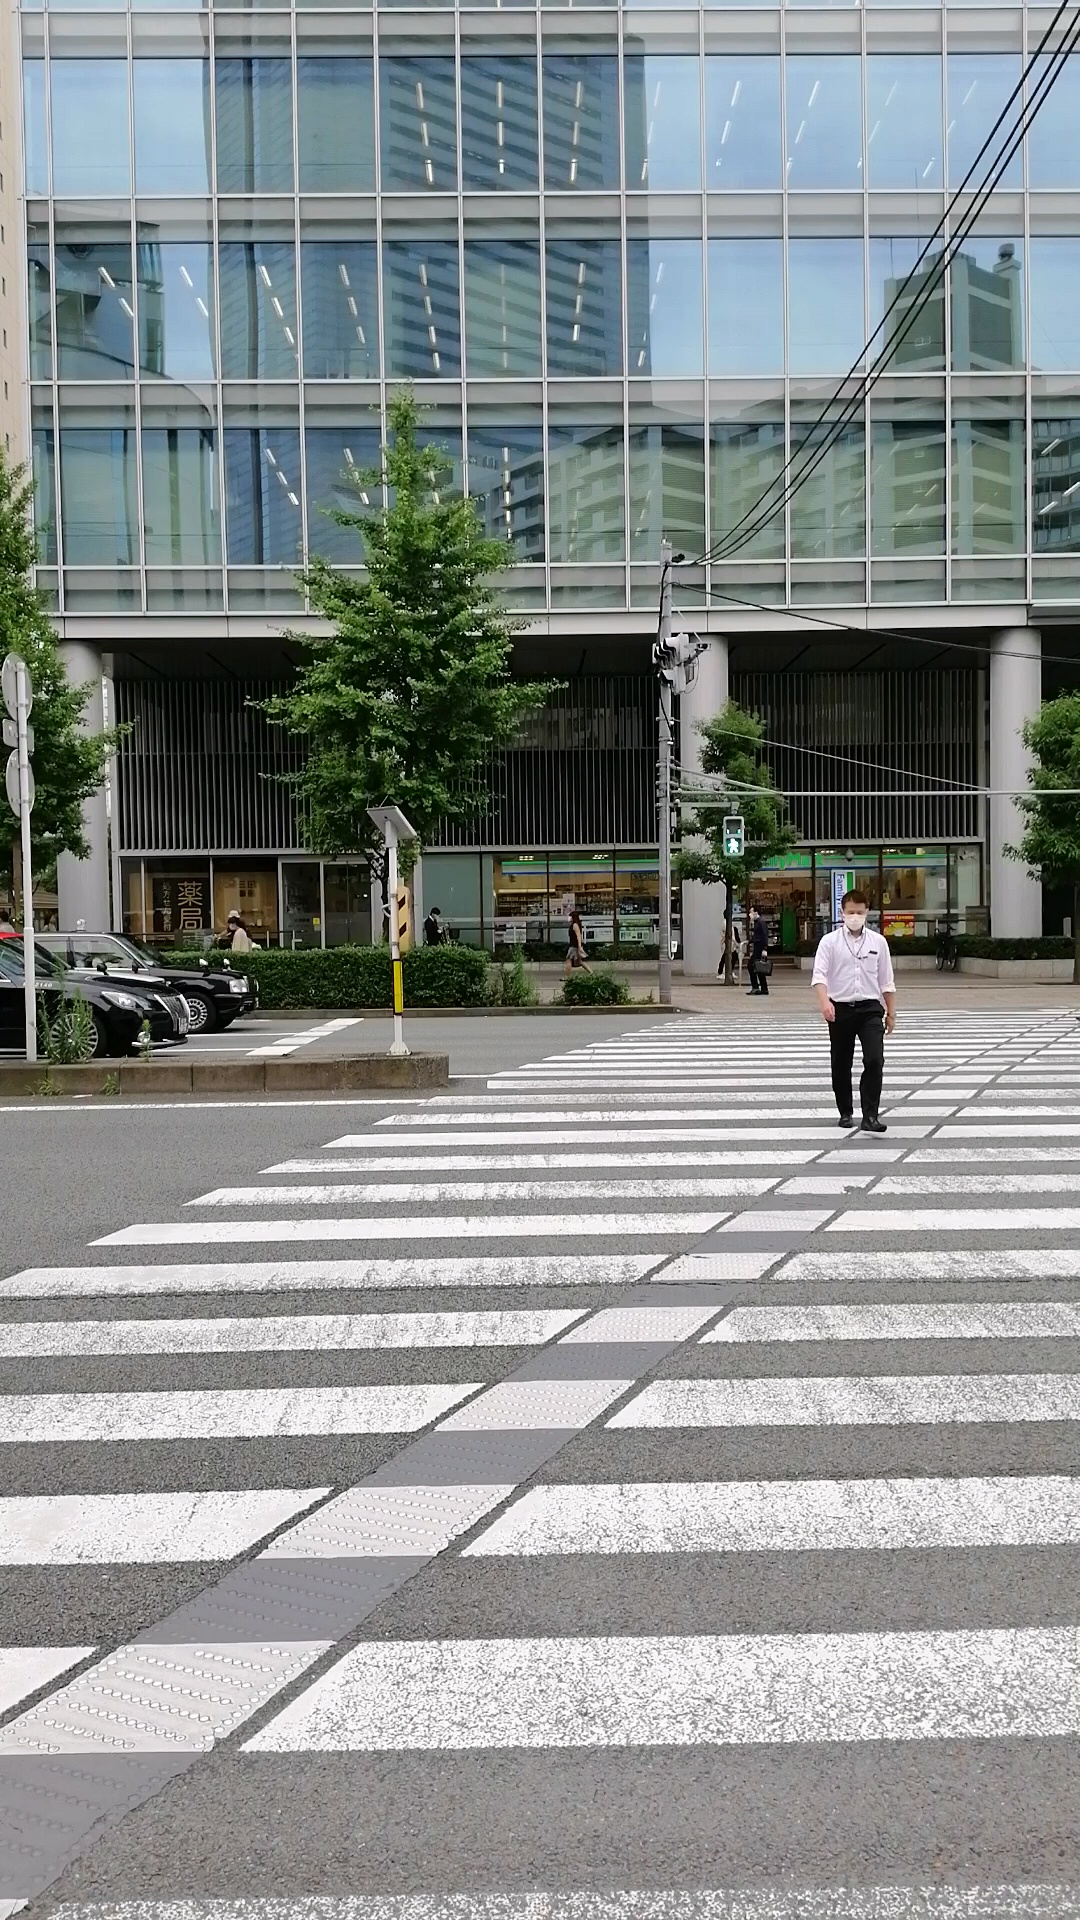green: (720, 814, 746, 857)
